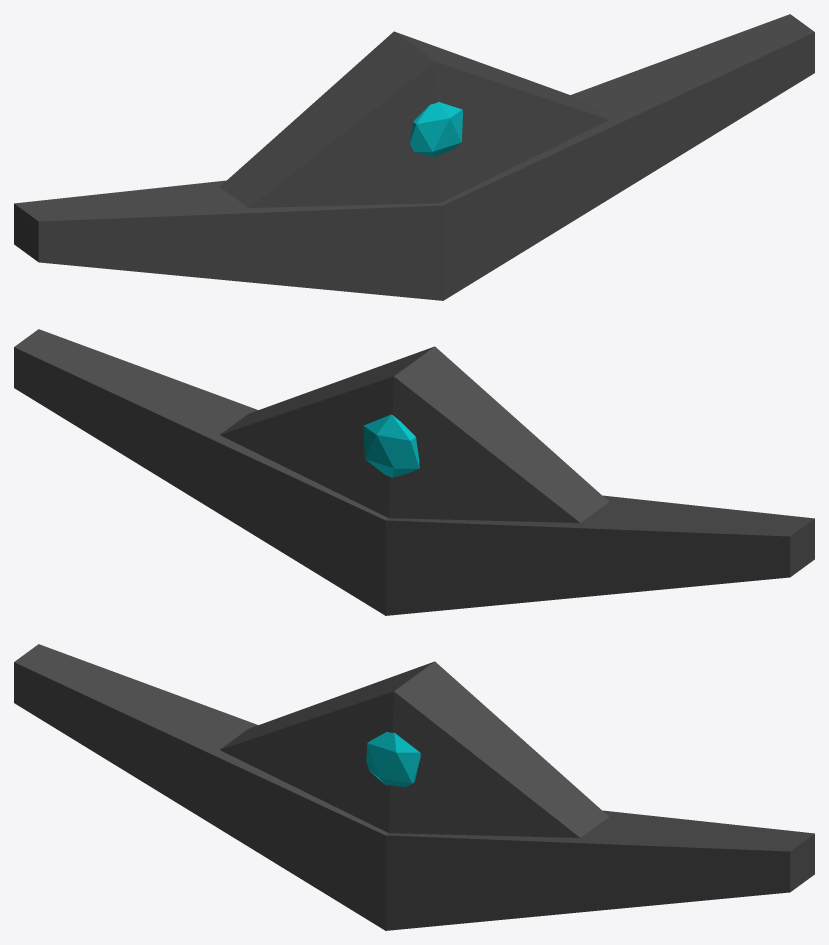
File: ModularSwordKit_Parierstange04_Gem.fbx
3 views of the same model, one above another, from view 1: azimuth 30°, elevation 25°; view 2: azimuth 150°, elevation 25°; view 3: azimuth 330°, elevation 25° (orthographic).
Visible parts, largest first — view 1: Parierstange04_Gem; view 2: Parierstange04_Gem; view 3: Parierstange04_Gem.
Part boxes in pixels (<box>): Parierstange04_Gem: <box>14,14,814,300</box>; Parierstange04_Gem: <box>14,329,814,615</box>; Parierstange04_Gem: <box>14,644,814,930</box>.
Size of the model in its own units: 80 by 22.99 by 10.34.
